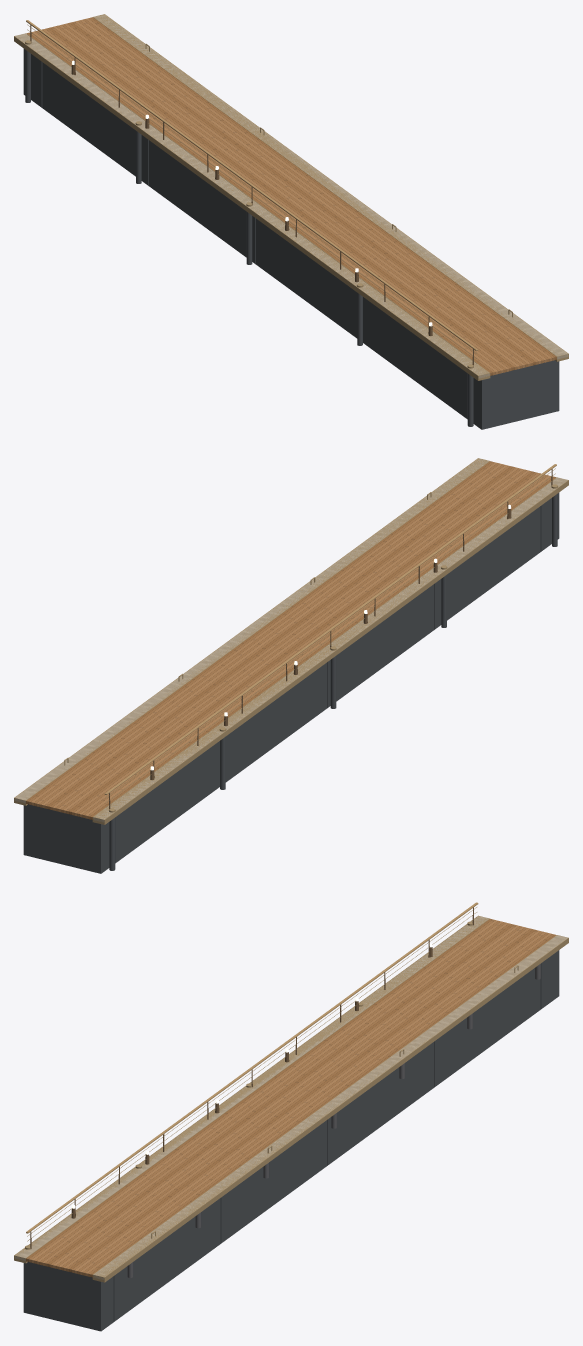
Rendered from yacht_berth.glb.
The picture shows the model from 3 angles, top to bottom: view 1: azimuth 30°, elevation 25°; view 2: azimuth 150°, elevation 25°; view 3: azimuth 330°, elevation 25°; orthographic projection.
Parts seen in each view (by area): view 1: teak_deck, floats, pvd, travertine, teak_frame, bronze; view 2: teak_deck, floats, pvd, travertine, teak_frame, bronze; view 3: teak_deck, floats, pvd, travertine, teak_frame, fenders, bronze.
Part boxes in pixels (x1,y1,x2,y2): teak_deck: (26,17,556,375); floats: (23,48,559,429); pvd: (14,14,568,380); travertine: (15,14,568,378); teak_frame: (26,20,478,350); bronze: (30,25,473,365); teak_deck: (26,461,556,819); floats: (23,492,559,873); pvd: (14,458,568,824); travertine: (14,458,567,822); teak_frame: (104,464,556,794); bronze: (109,469,552,809); teak_deck: (26,919,555,1277); floats: (23,950,559,1331); pvd: (14,907,568,1282); travertine: (14,916,567,1279); teak_frame: (26,902,478,1233); fenders: (127,963,540,1277); bronze: (30,907,473,1248).
Size of the model in its own units: 2.7 by 2.22 by 23.92.
Materials: 8 (5 with a texture image).
